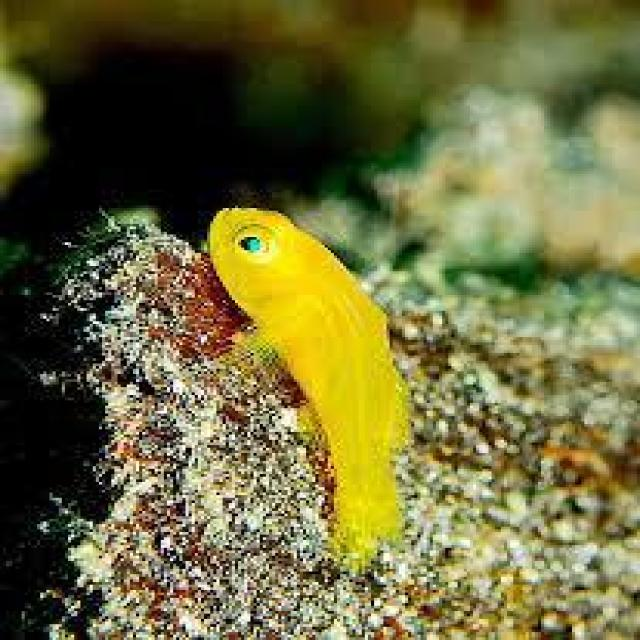other: (218, 180, 420, 580)
